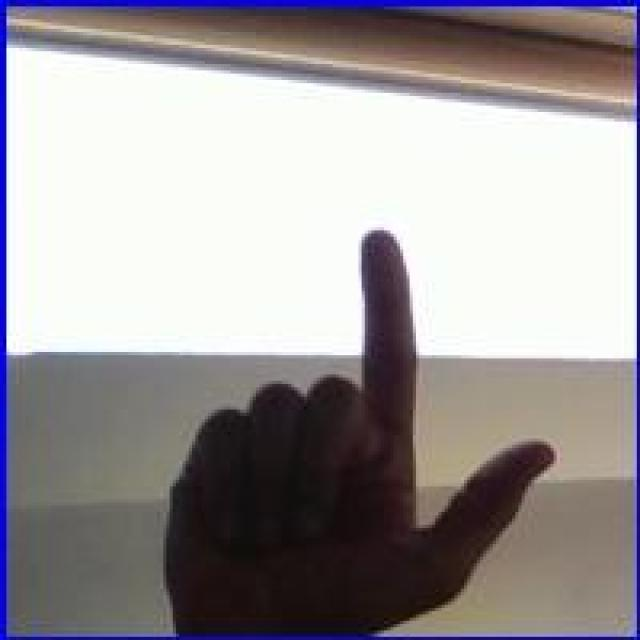L: (136, 224, 562, 630)
